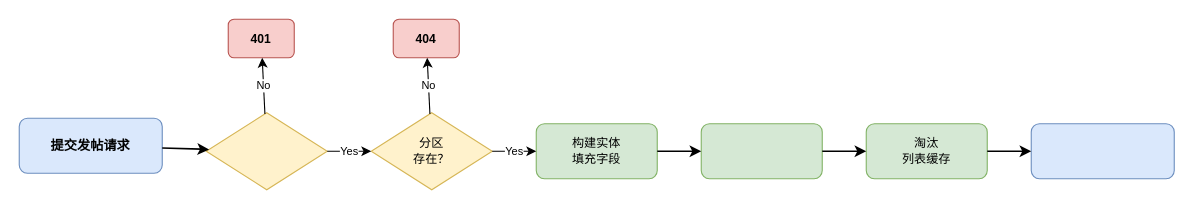
This 1194x209 diagram has some shape labels left out. Each missing label, with the centre of its shape:
持久化 MySQL: the point at 761,151
身份信息 非空？: the point at 266,151
返回帖子摘要: the point at 1102,151
